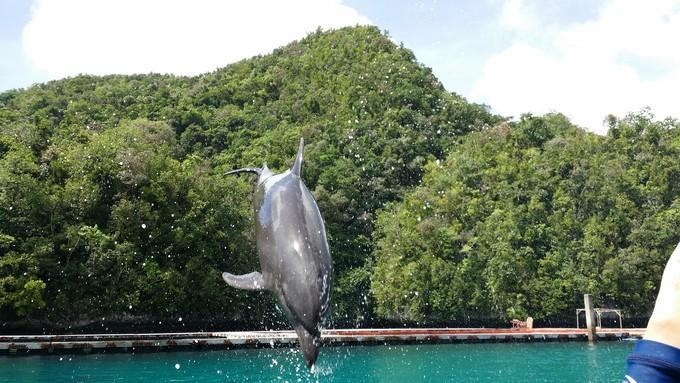fish: (214, 136, 336, 371)
